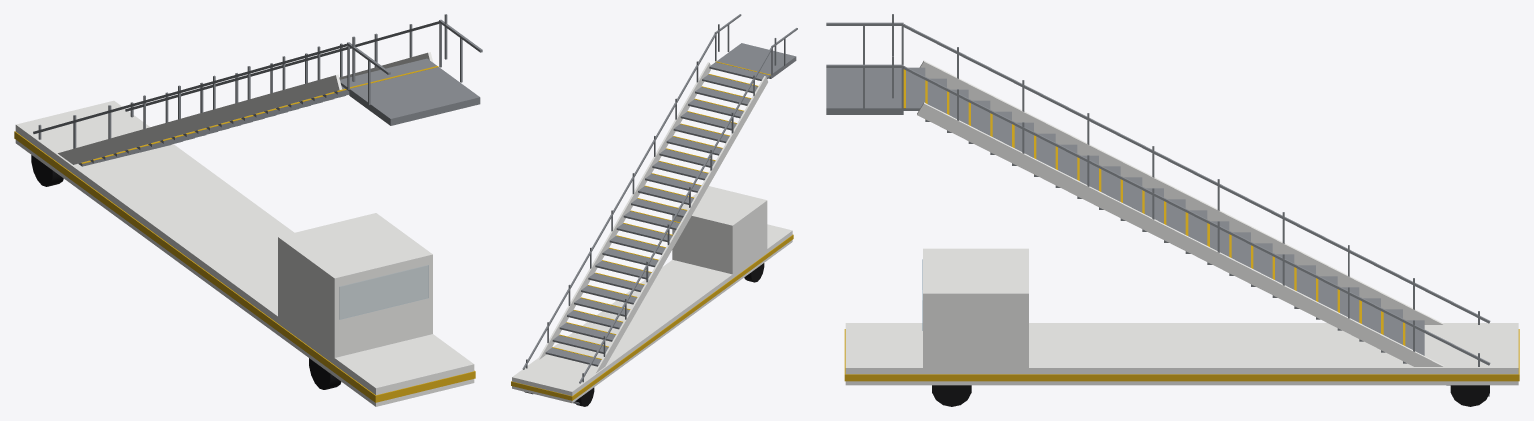
File: ac_boarding_stairs.glb
3 renders of one model, left to right at view 1: azimuth 30°, elevation 25°; view 2: azimuth 150°, elevation 25°; view 3: azimuth 270°, elevation 25°, orthographic. The views are drawn at different scales.
Visible parts, largest first — view 1: ac_boarding_stairs; view 2: ac_boarding_stairs; view 3: ac_boarding_stairs.
Boxes of the visible parts, bbox=[...] form: ac_boarding_stairs: bbox=[14, 14, 482, 406]; ac_boarding_stairs: bbox=[511, 14, 797, 406]; ac_boarding_stairs: bbox=[826, 14, 1519, 406].
Size of the model in its own units: 2.24 by 7.99 by 14.37.
